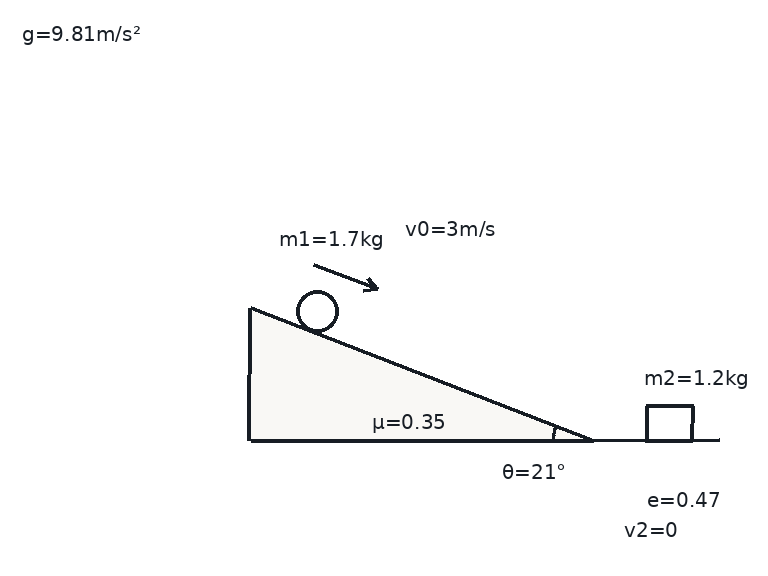ball: (294, 288, 340, 334)
block: (644, 404, 694, 442)
ramp: (247, 306, 595, 442)
